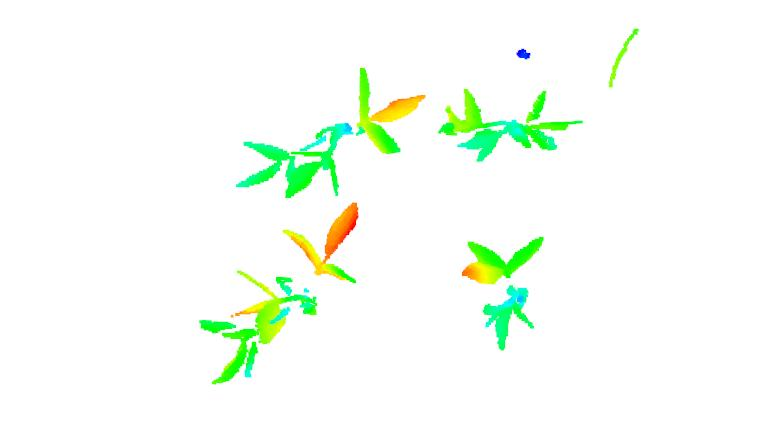mungbean: (187, 197, 373, 389), (224, 66, 435, 201), (437, 83, 591, 164), (463, 231, 544, 351)
